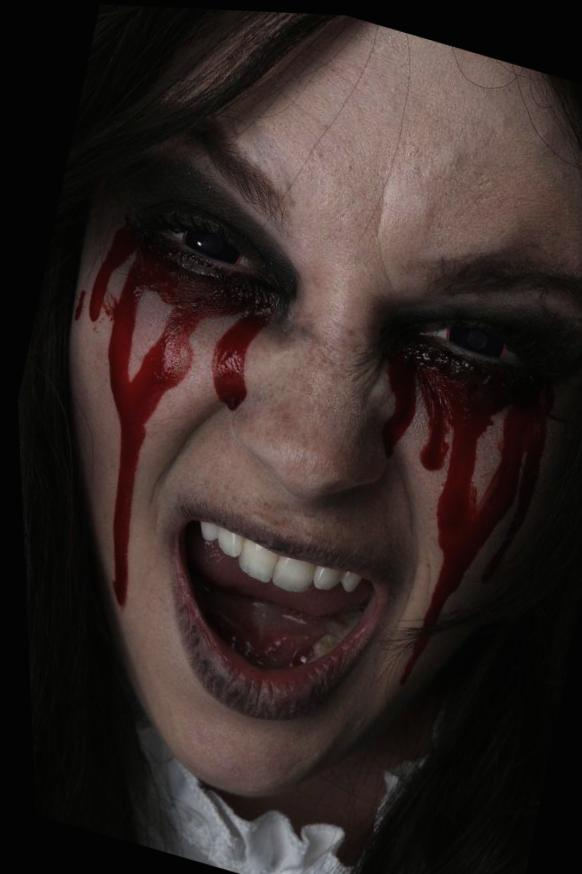Fire: (66, 191, 293, 608), (378, 319, 551, 681)
